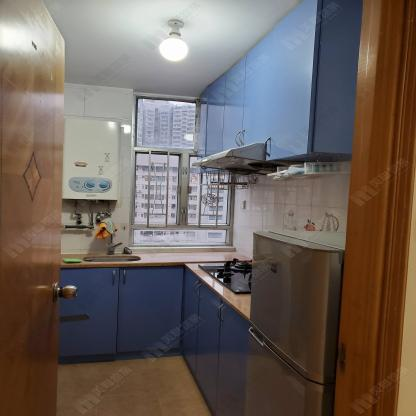Cupboard: (60, 269, 240, 416), (198, 2, 360, 162), (197, 0, 361, 158)
Exhaust Hood: (189, 141, 305, 176), (192, 142, 292, 175)
Faucet: (105, 234, 120, 254)
Fridge: (234, 231, 347, 414)
Sink: (90, 254, 139, 261)
Stove: (197, 263, 249, 294)
